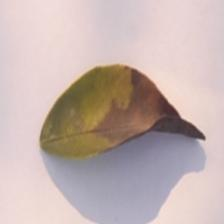black spot: (94, 70, 206, 152)
